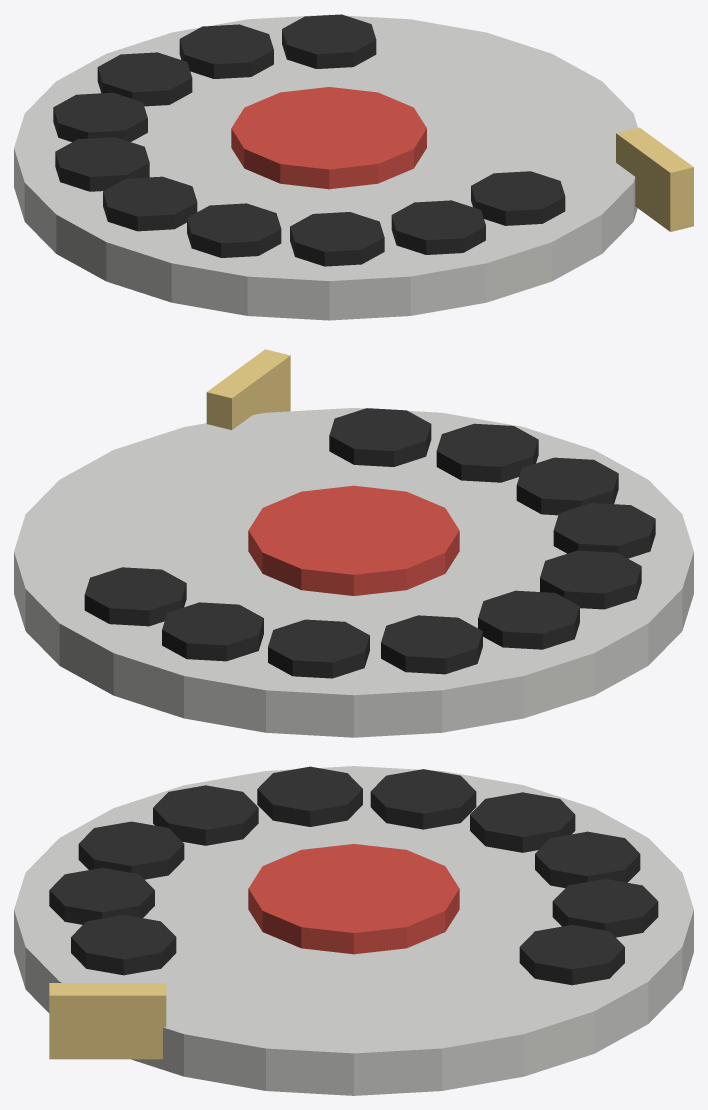
File: phone_dial.glb
3 renders of one model, top to bottom at view 1: azimuth 30°, elevation 25°; view 2: azimuth 150°, elevation 25°; view 3: azimuth 270°, elevation 25°, orthographic. The views are drawn at different scales.
Visible parts, largest first — view 1: PhoneDial; view 2: PhoneDial; view 3: PhoneDial.
Part boxes in pixels (x1,y1,x2,y2): PhoneDial: (14,14,693,320); PhoneDial: (14,349,693,737); PhoneDial: (14,766,693,1095).
Size of the model in its own units: 0.116 by 0.014 by 0.116.
